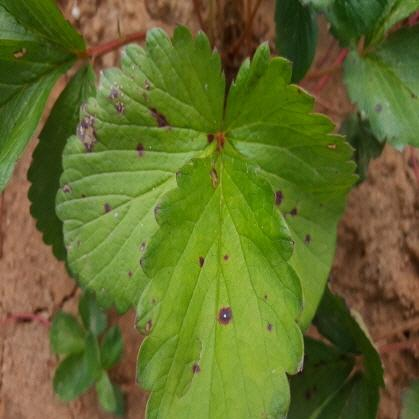Leaf Spot: (54, 20, 227, 317), (131, 133, 304, 418), (221, 40, 361, 332), (341, 24, 418, 152)
